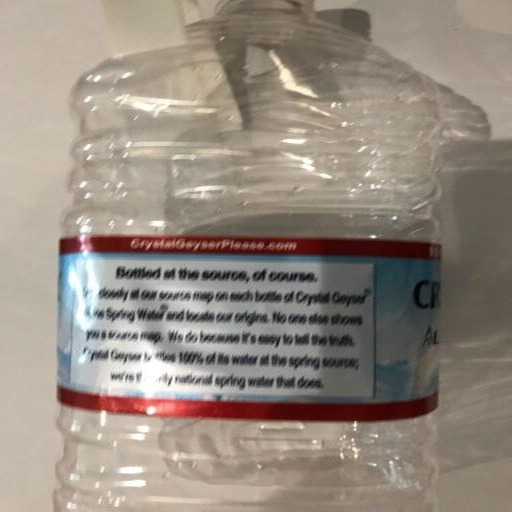Plastic_0: (53, 1, 446, 512)
